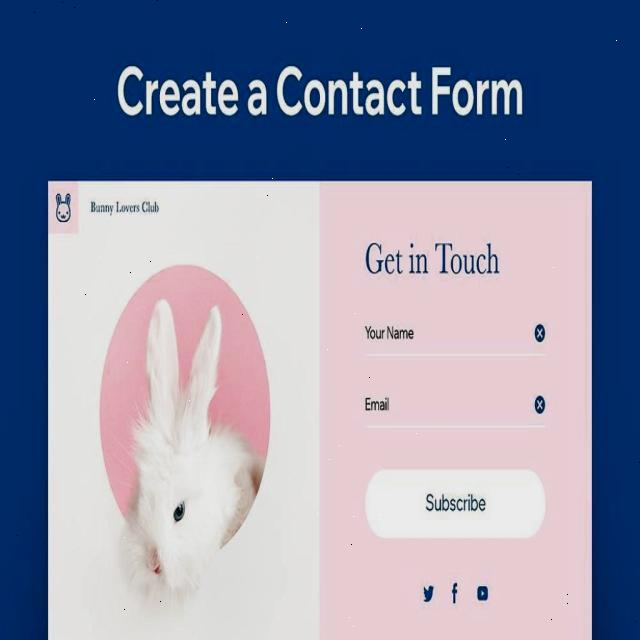button: (369, 466, 549, 538), (474, 576, 495, 612), (446, 575, 466, 612), (418, 578, 437, 610)
input: (358, 384, 558, 434), (358, 311, 555, 361)
